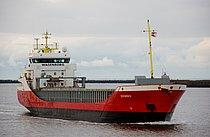Ship: (18, 29, 190, 128)
